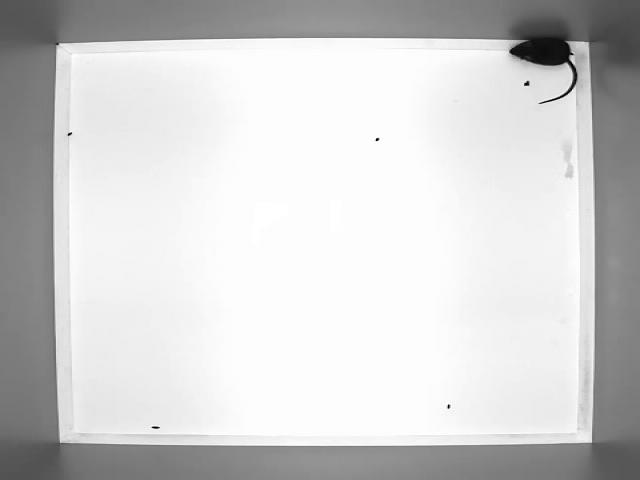Tikus: (502, 39, 598, 101)
